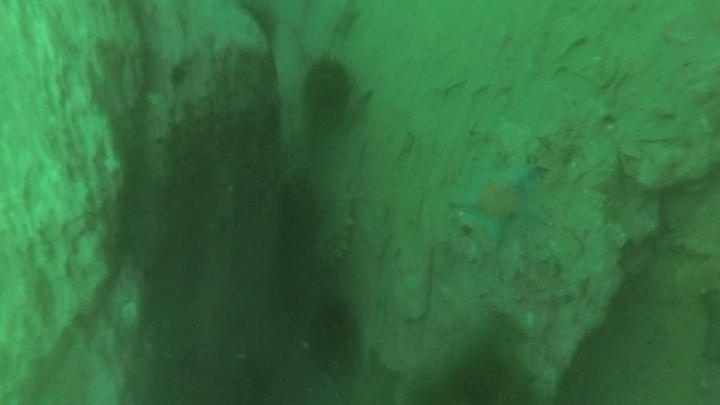echinus: (444, 346, 529, 404), (305, 294, 361, 368), (300, 55, 356, 115)
holothurian: (312, 175, 358, 270)
starfish: (447, 157, 551, 248)
